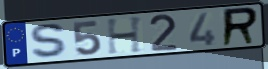2: (149, 13, 178, 52)
4: (187, 11, 218, 47)
5: (72, 19, 104, 57)
H: (105, 15, 145, 56)
R: (220, 6, 260, 49)
S: (29, 22, 71, 60)
